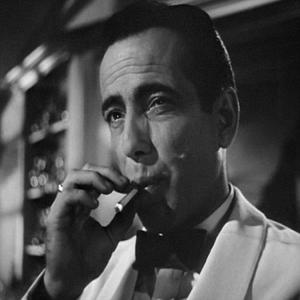cigarette: (114, 188, 138, 211)
